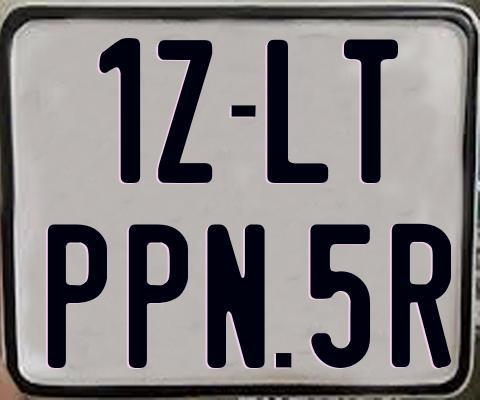1: (98, 38, 145, 188)
5: (307, 222, 371, 366)
L: (264, 37, 329, 184)
N: (205, 224, 267, 373)
P: (48, 221, 107, 370), (127, 221, 187, 365)
R: (391, 222, 454, 366)
T: (344, 36, 403, 185)
Z: (155, 38, 215, 186)
